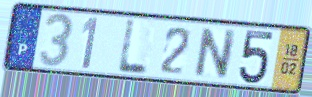1: (80, 16, 100, 71)
2: (158, 25, 192, 76)
3: (38, 12, 77, 69)
5: (236, 28, 276, 86)
L: (115, 18, 149, 77)
N: (191, 26, 239, 80)
